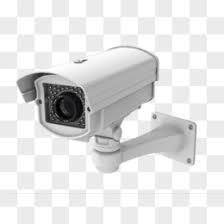tutu: (17, 46, 159, 137)
